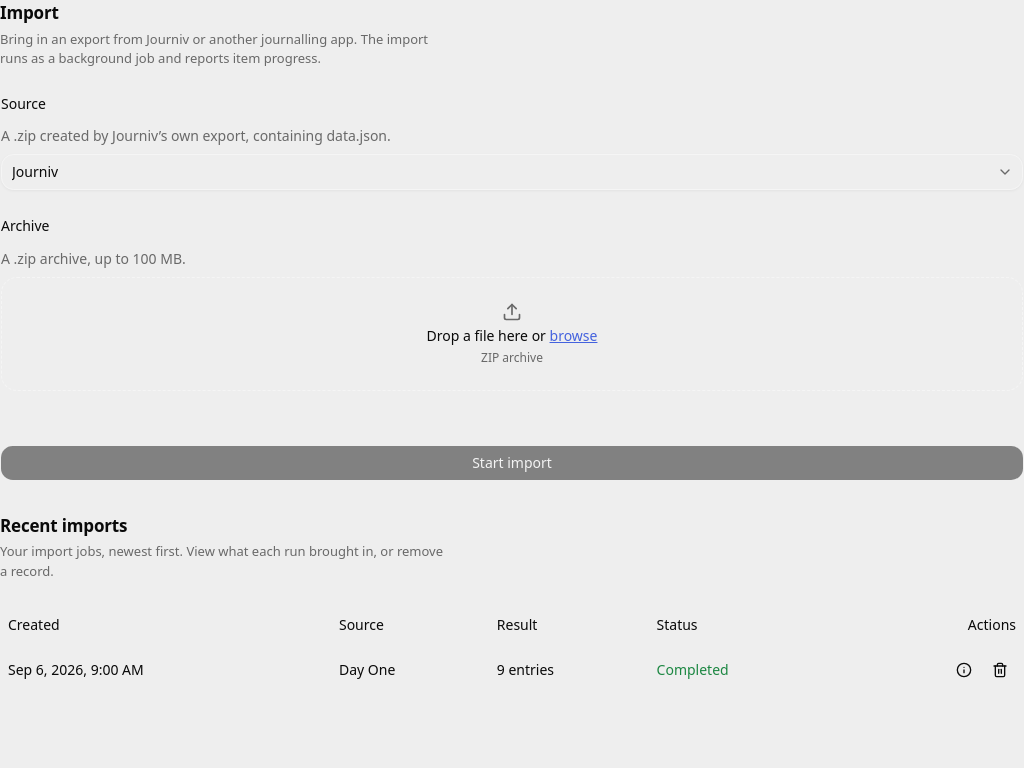
Test: Settings · Import › shows a previous import's details in the responsive dialog
Click the button named "View import details": click(964, 670) [948,654,980,686]
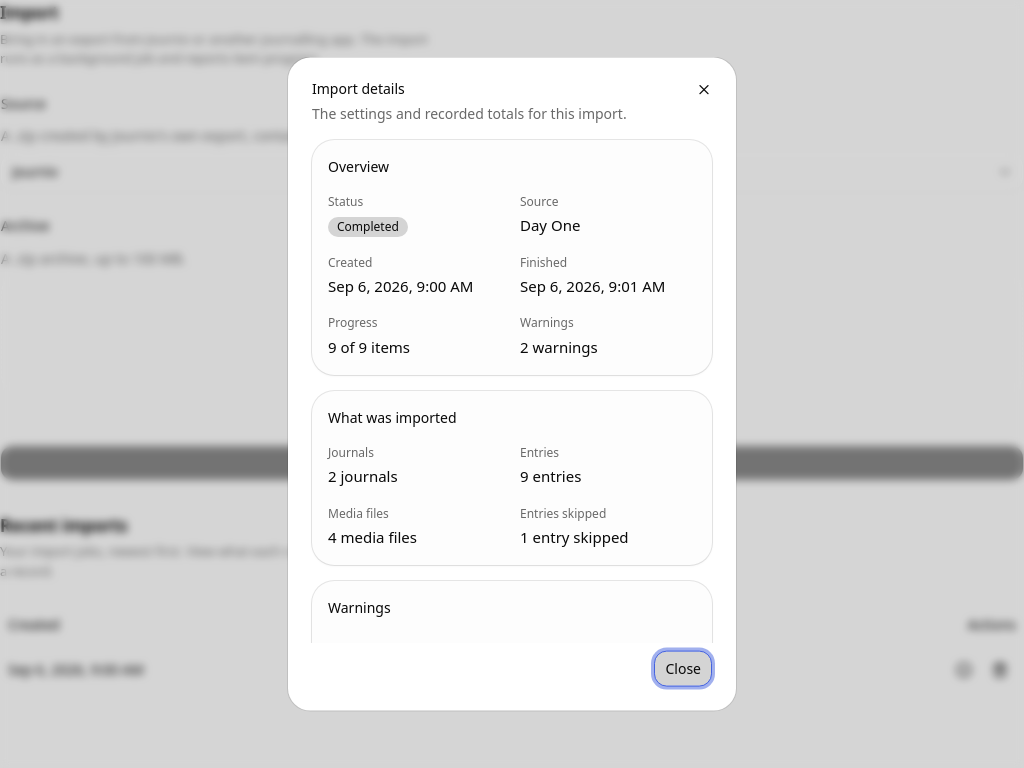
expect the text "Day One" is shown: met, box [520,215,580,235]
expect the text "2 journals" is shown: met, box [328,466,398,486]
expect the text "9 entries" is shown: met, box [520,466,581,486]
